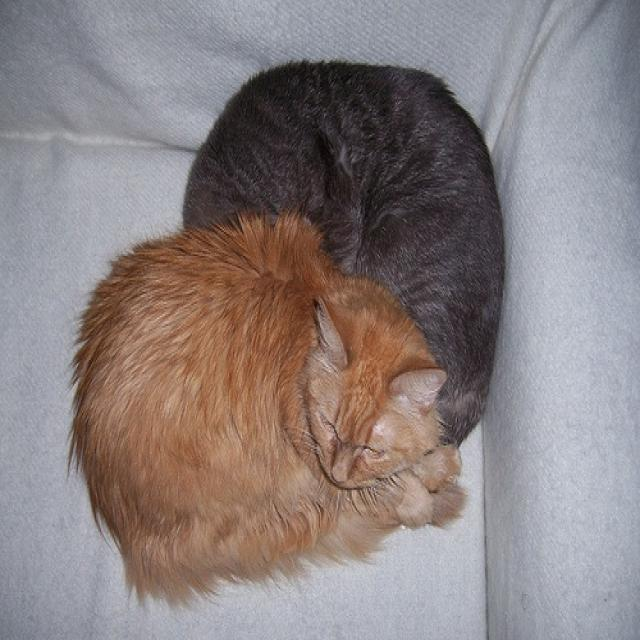cat: (74, 210, 462, 604), (182, 56, 504, 447)
